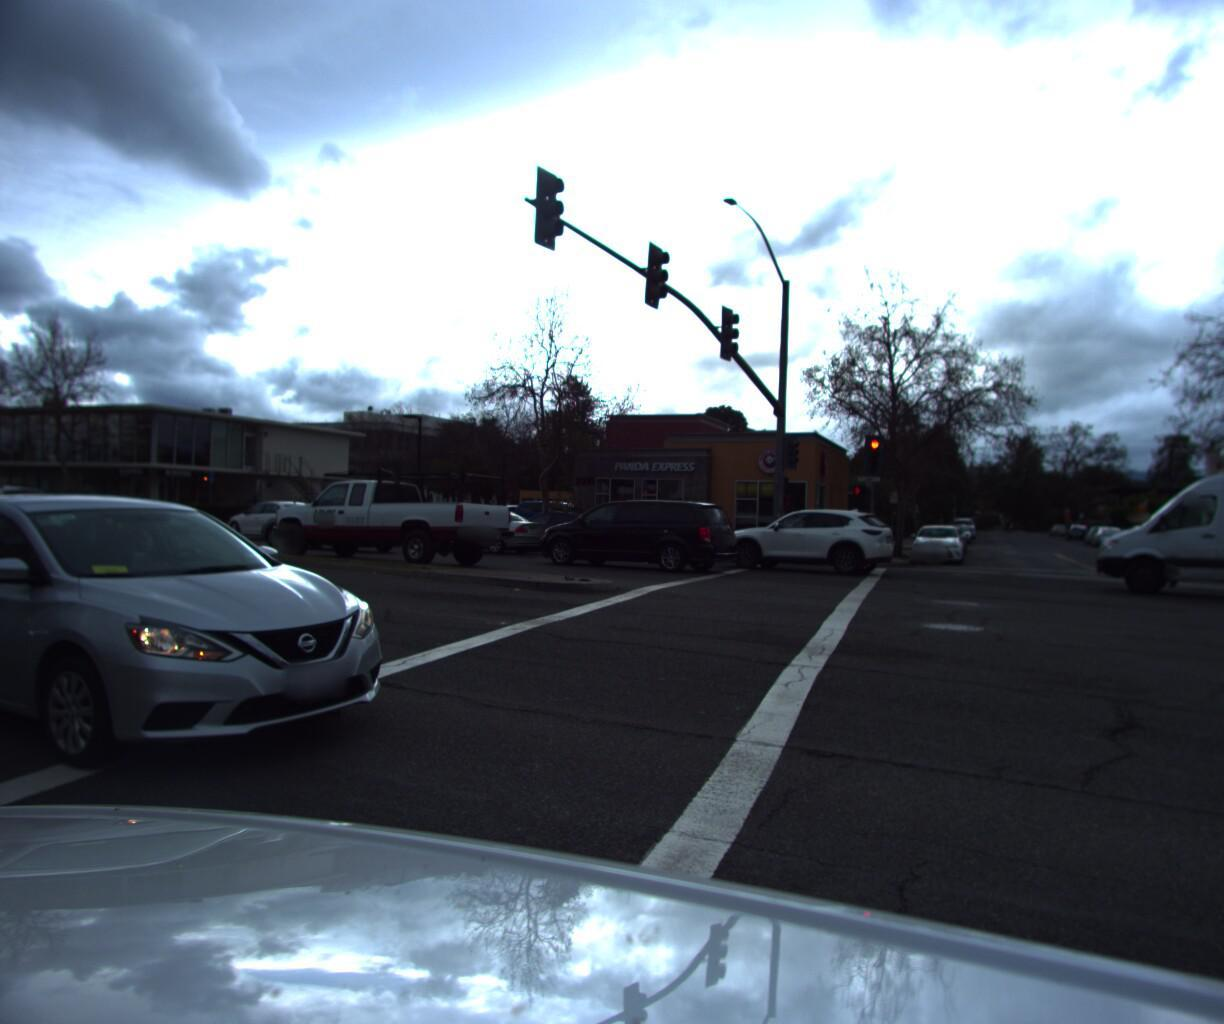car: (0, 482, 433, 821), (266, 469, 522, 575), (1084, 458, 1224, 597), (531, 496, 742, 577), (717, 504, 903, 576), (255, 498, 417, 551), (407, 506, 552, 555), (484, 505, 619, 554), (224, 500, 338, 546), (0, 494, 115, 538), (100, 505, 202, 542), (0, 483, 59, 541), (907, 521, 968, 566), (1077, 520, 1121, 547), (1058, 518, 1088, 538)
